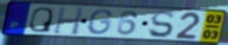2: (175, 11, 202, 41)
6: (116, 10, 140, 36)
G: (86, 9, 114, 36)
H: (52, 6, 86, 36)
Q: (27, 6, 54, 34)
S: (147, 10, 175, 39)
